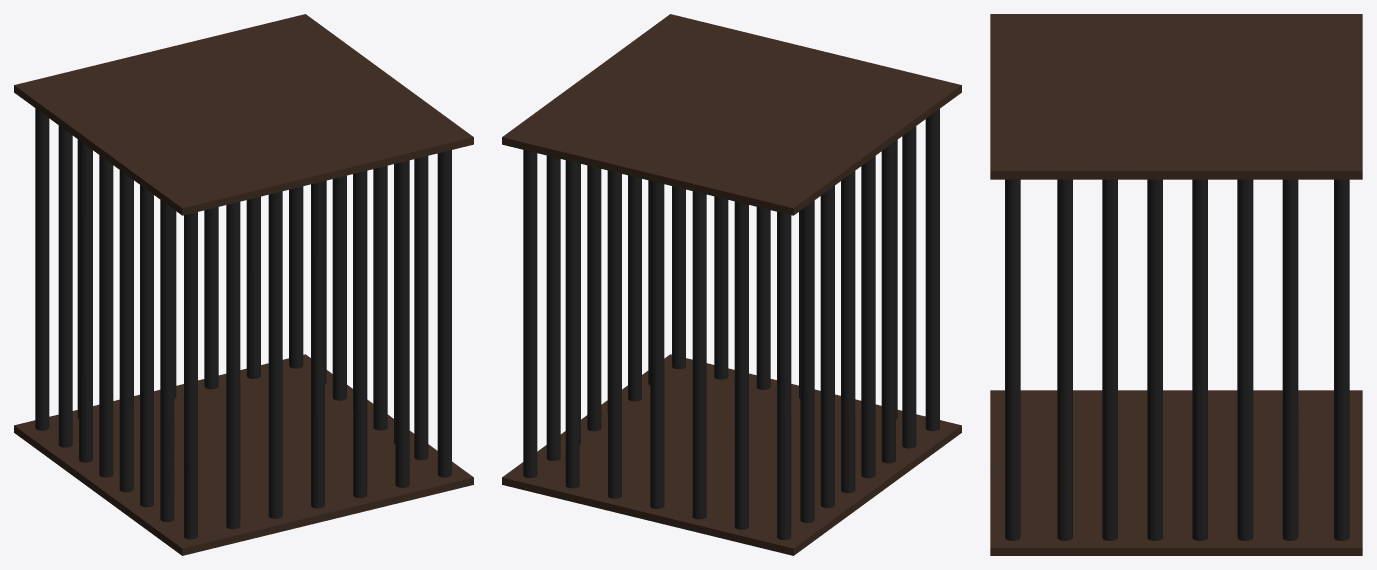
The model's file is jail.fbx.
3 renders of one model, left to right at view 1: azimuth 30°, elevation 25°; view 2: azimuth 150°, elevation 25°; view 3: azimuth 270°, elevation 25°, orthographic. The views are drawn at different scales.
Visible parts, largest first — view 1: pCube3; view 2: pCube3; view 3: pCube3.
Part boxes in pixels (x1,y1,x2,y2): pCube3: (14,14,473,555); pCube3: (502,14,961,555); pCube3: (990,14,1362,555).
Size of the model in its own units: 41.34 by 47.1 by 41.34.
1 material, 1 textured.
